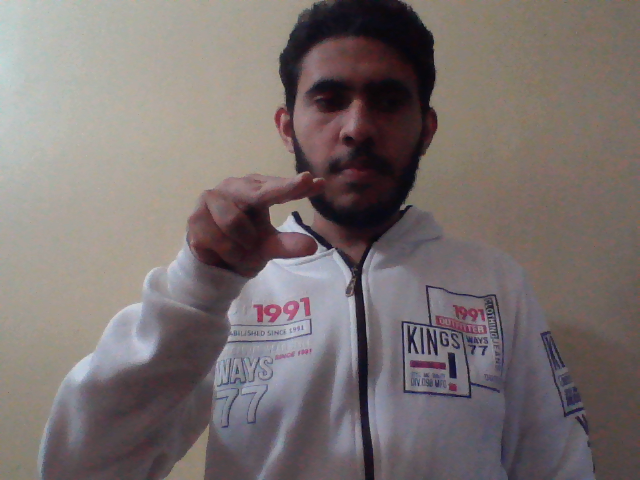no: (183, 165, 332, 280)
